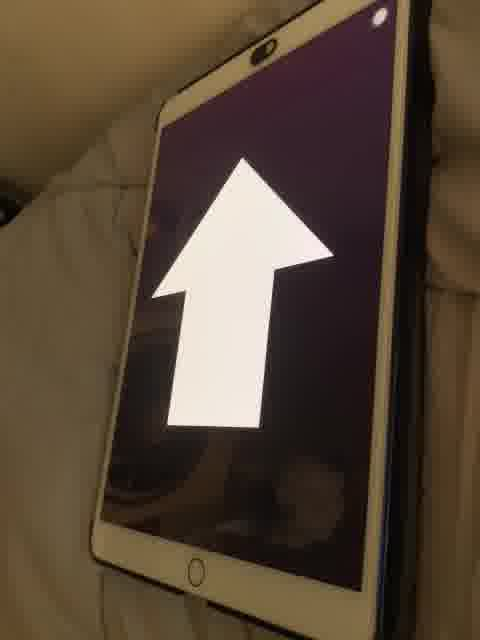up: (148, 154, 336, 434)
